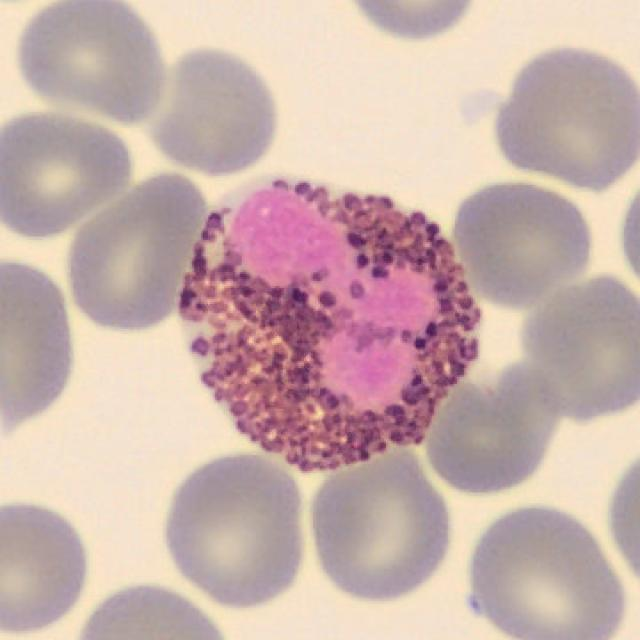Eosinofilo: (176, 180, 482, 476)
